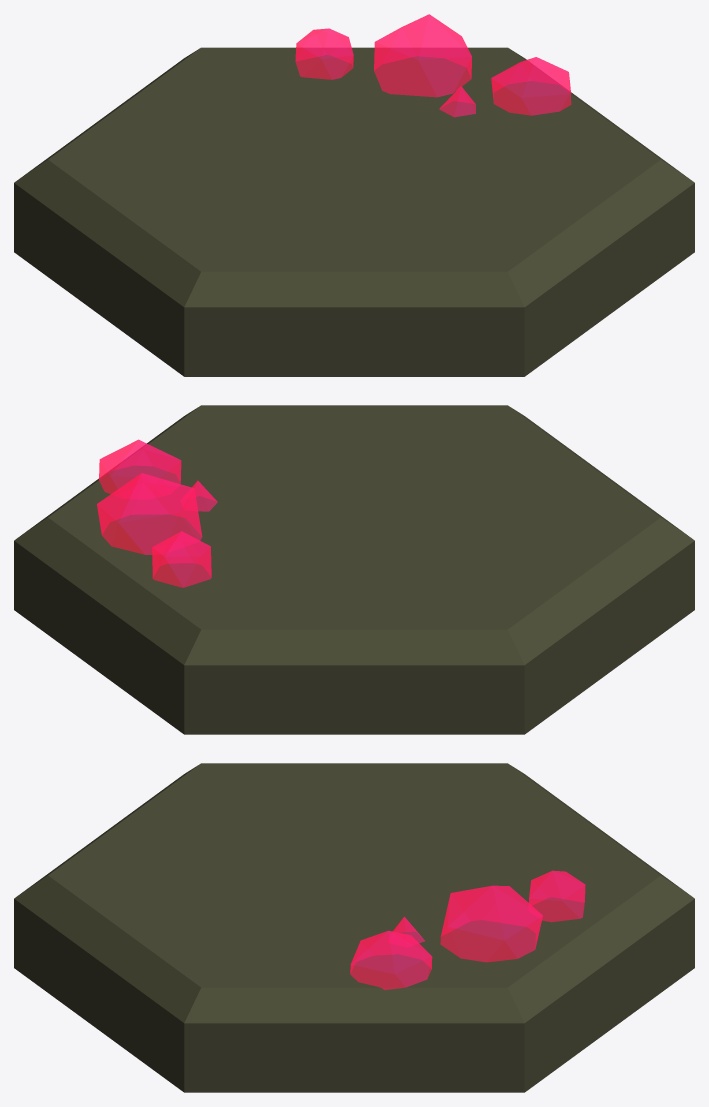
Rendered from GroundUnit(6).fbx.
The picture shows the model from 3 angles, top to bottom: view 1: azimuth 30°, elevation 25°; view 2: azimuth 150°, elevation 25°; view 3: azimuth 270°, elevation 25°; orthographic projection.
Visible parts, largest first — view 1: GroundUnit2.2; view 2: GroundUnit2.2; view 3: GroundUnit2.2.
Boxes of the visible parts, bbox=[...] form: GroundUnit2.2: bbox=[14, 14, 694, 376]; GroundUnit2.2: bbox=[14, 405, 694, 734]; GroundUnit2.2: bbox=[14, 763, 694, 1092].
Bounding box in the file's own units: 1.73 × 2 × 0.4943.
